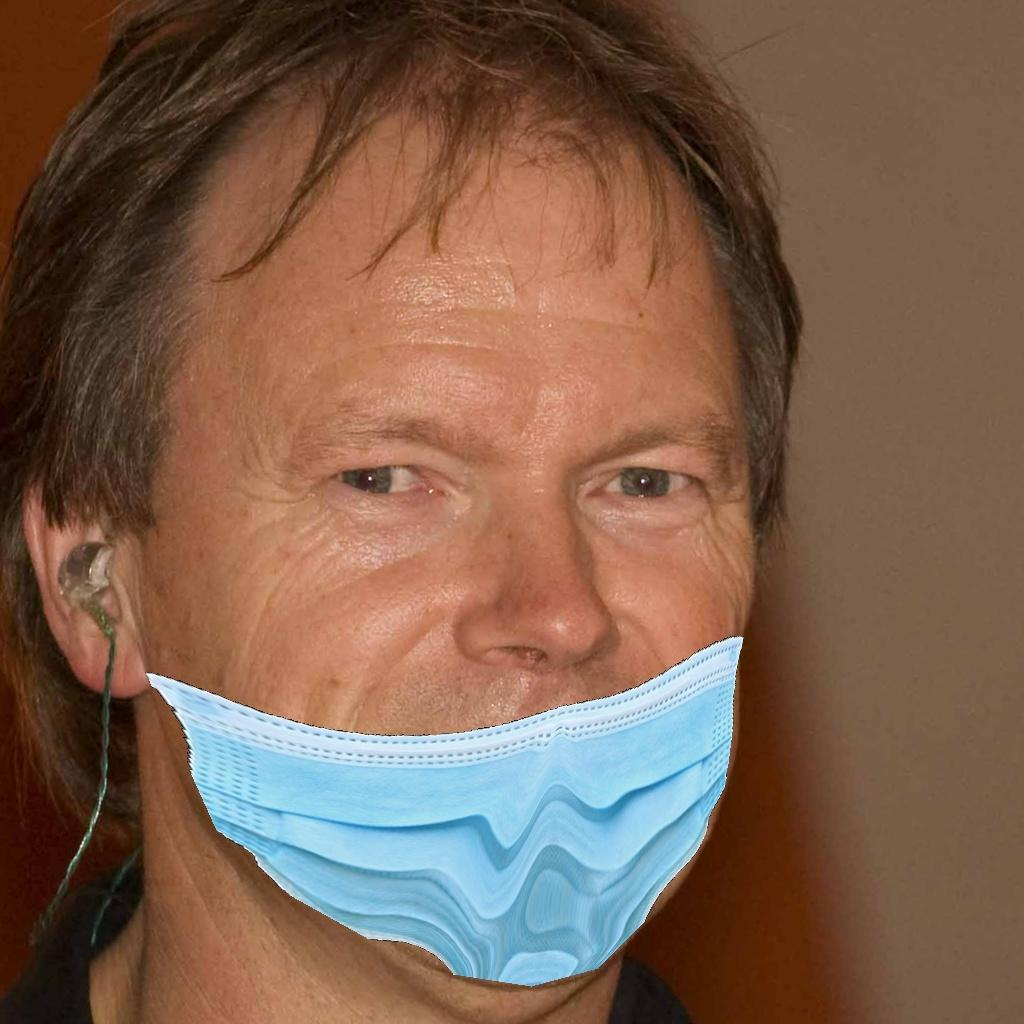Máscara Incorreta: (95, 283, 773, 981)
